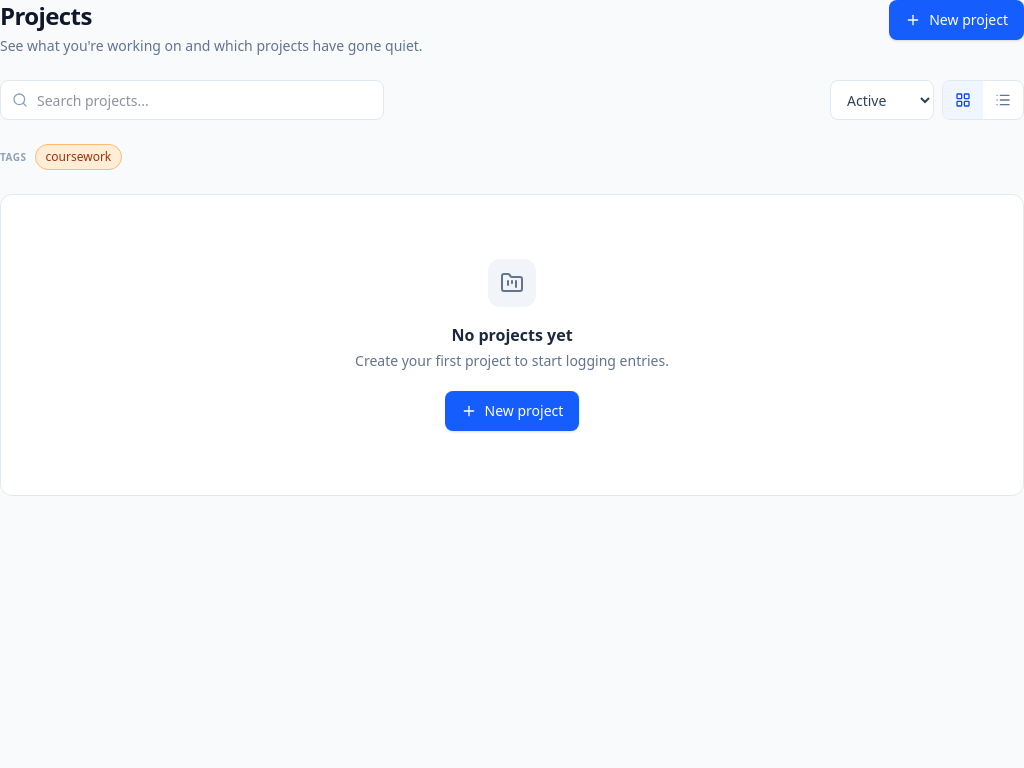
Test case: ProjectsPage — creating and editing › validates that a project has a name
Click the 1st button "New project": (957, 20) [889,0,1023,40]
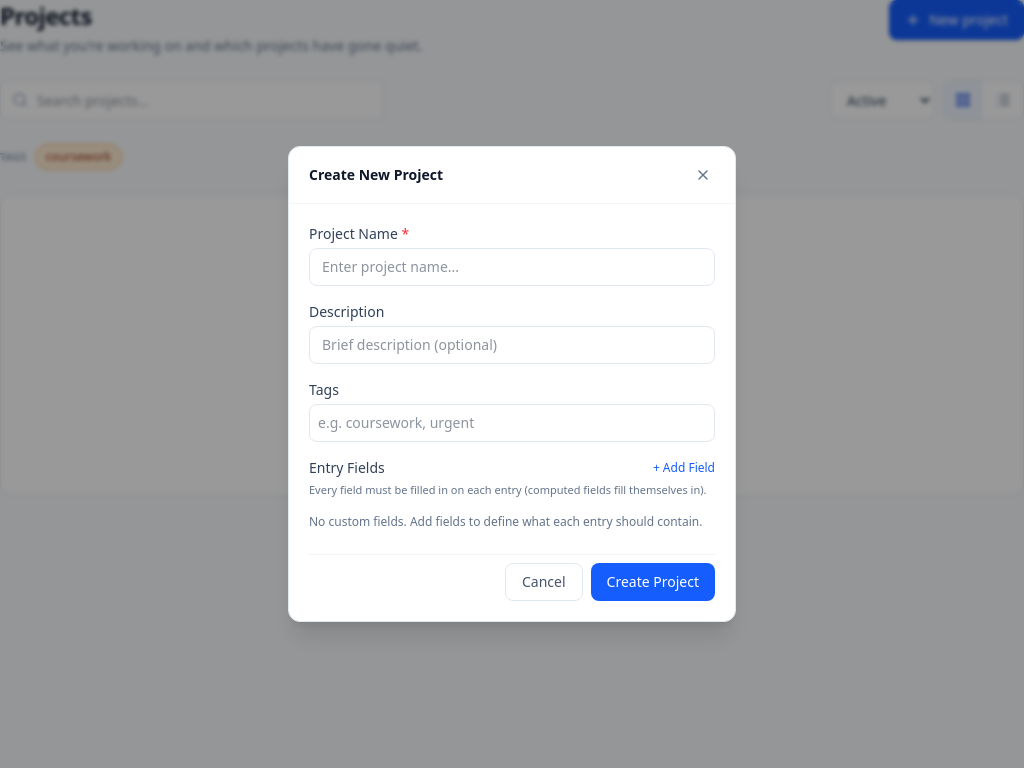
expect the heading "Create New Project" is shown: met, box [309,165,443,185]
Submit the form with placeholder "Enter project name...", box [309,224,715,601]
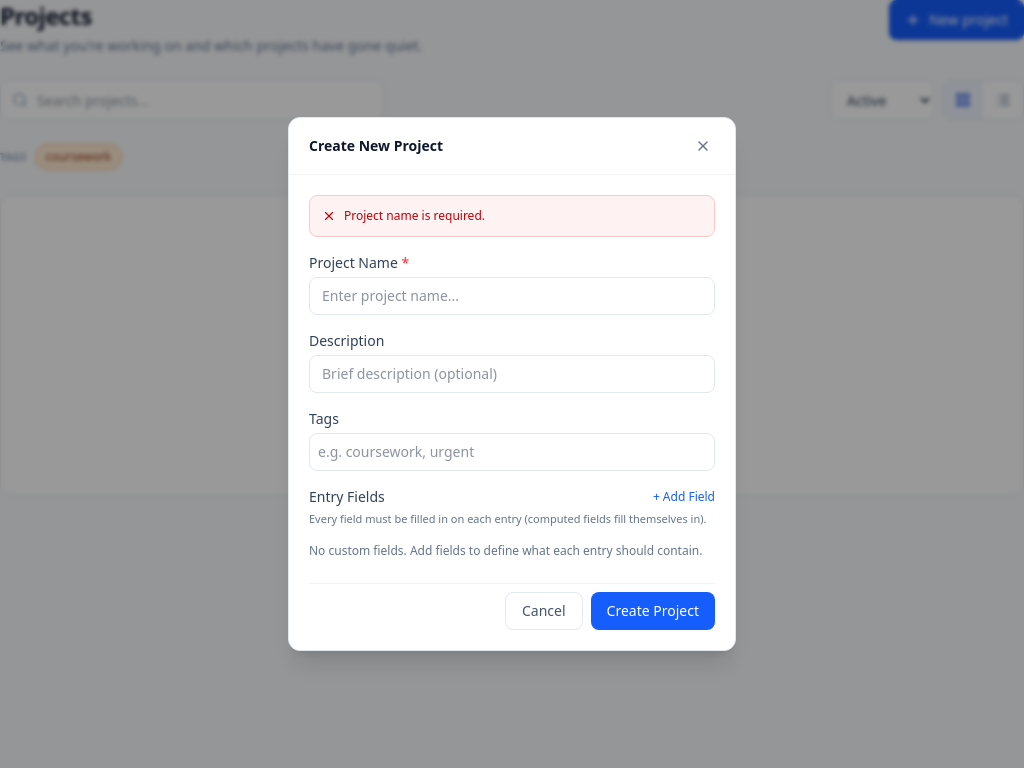
expect the text "Project name is required." is shown: met, box [309,195,715,237]
